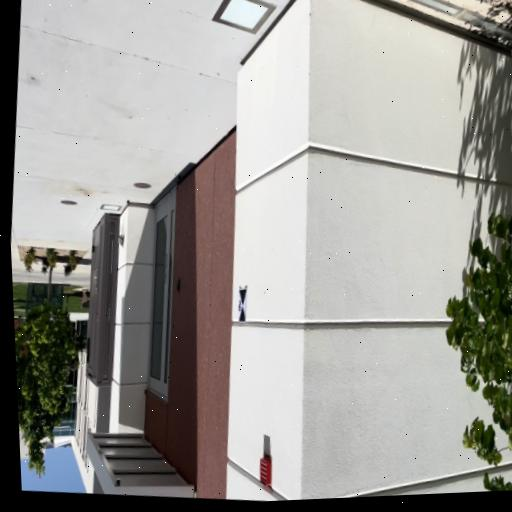target9: (238, 287, 247, 322)
